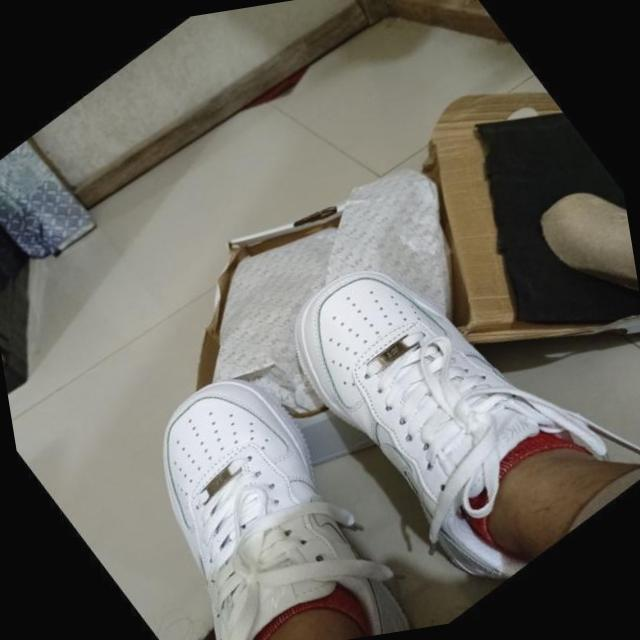nike_fake_airforce: (247, 180, 640, 633), (67, 323, 454, 640)
